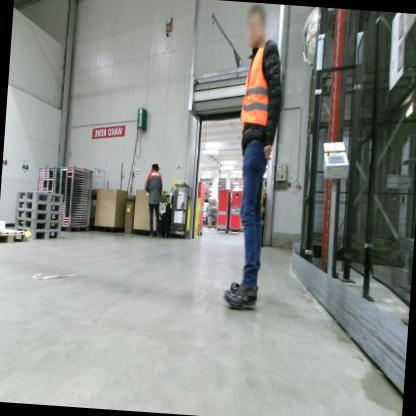pallet: (14, 193, 61, 213), (13, 215, 59, 235), (15, 205, 62, 224), (16, 186, 62, 205), (15, 226, 60, 245), (0, 228, 30, 248)
